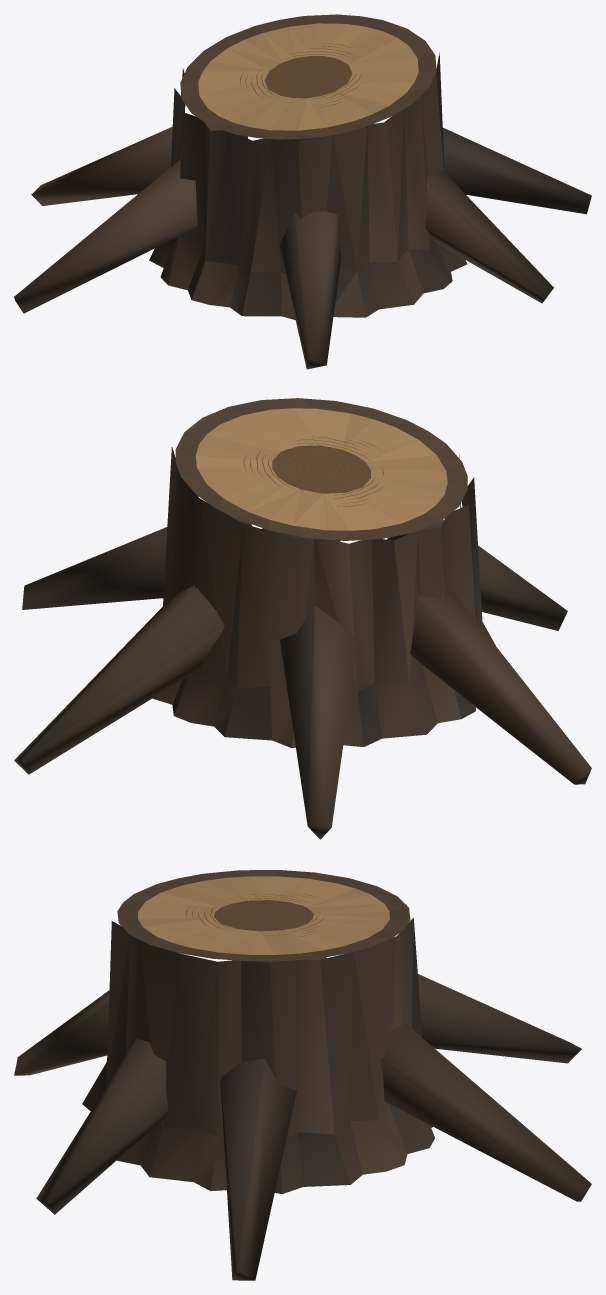
File: stump_lod1.glb
3 renders of one model, top to bottom at view 1: azimuth 30°, elevation 25°; view 2: azimuth 150°, elevation 25°; view 3: azimuth 270°, elevation 25°, orthographic. The views are drawn at different scales.
Parts seen in each view (by area): view 1: stump_lod1; view 2: stump_lod1; view 3: stump_lod1.
Part boxes in pixels (bbox=[...]): stump_lod1: bbox=[14, 14, 591, 369]; stump_lod1: bbox=[14, 398, 591, 839]; stump_lod1: bbox=[14, 870, 591, 1280].
Size of the model in its own units: 1.98 by 0.7337 by 1.62.
